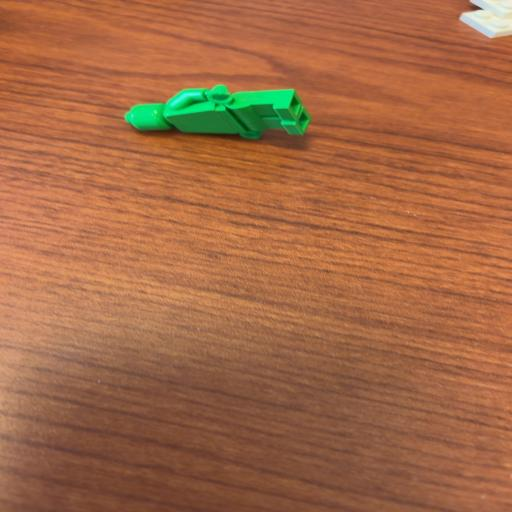UnoQ-minifig-detector: (127, 86, 310, 138)
